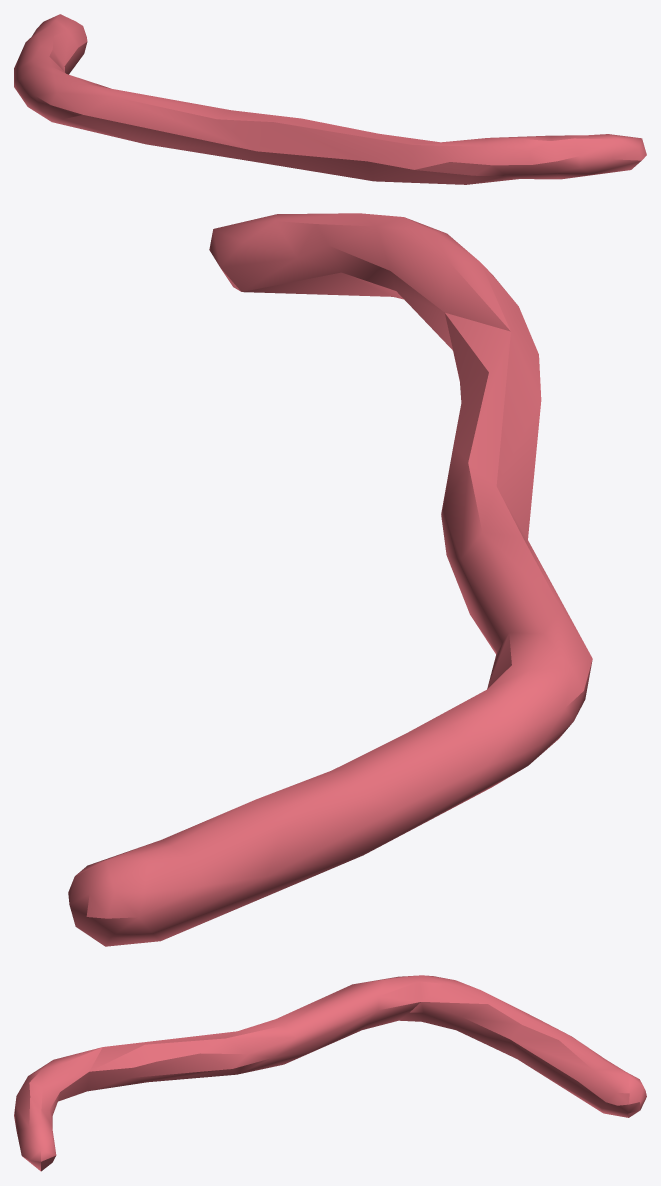
File: fma4713_fj2686.glb
3 renders of one model, top to bottom at view 1: azimuth 30°, elevation 25°; view 2: azimuth 150°, elevation 25°; view 3: azimuth 270°, elevation 25°, orthographic. The views are drawn at different scales.
Visible parts, largest first — view 1: FMA4713_FJ2686; view 2: FMA4713_FJ2686; view 3: FMA4713_FJ2686.
Boxes of the visible parts, left/top/right/bottom form: FMA4713_FJ2686: left=14, top=14, right=646, bottom=184; FMA4713_FJ2686: left=68, top=213, right=592, bottom=946; FMA4713_FJ2686: left=14, top=975, right=646, bottom=1171.
Size of the model in its own units: 0.00737 by 0.00213 by 0.011.
